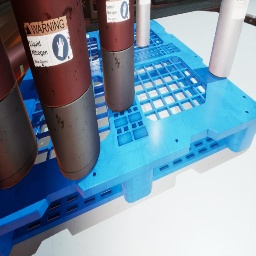0: (208, 0, 249, 78), (136, 0, 151, 48)
NitrogenTank ,: (10, 0, 100, 180), (0, 32, 38, 189), (96, 0, 135, 112), (6, 40, 30, 81)
